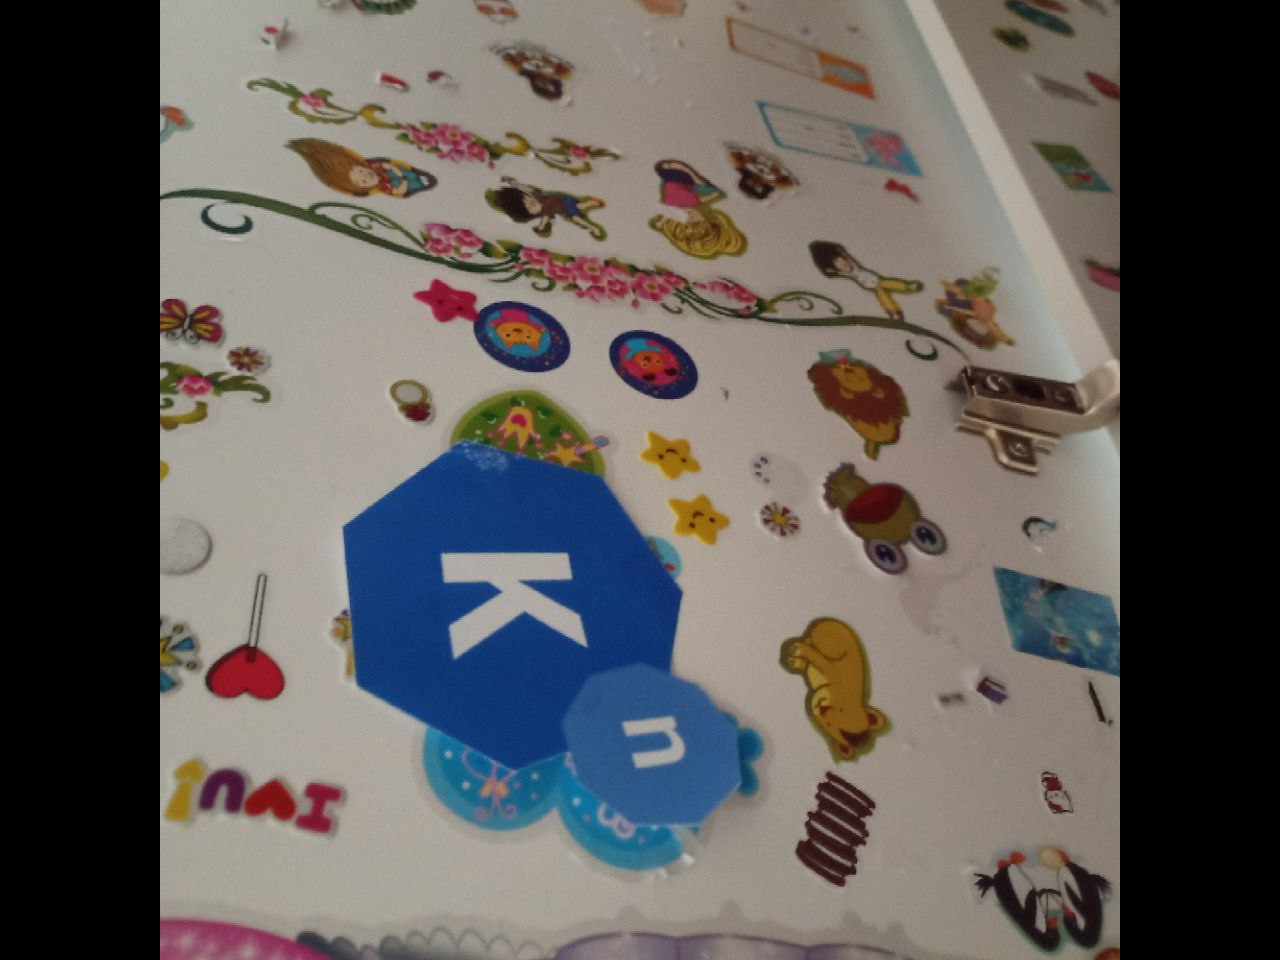knative: (341, 445, 740, 824)
